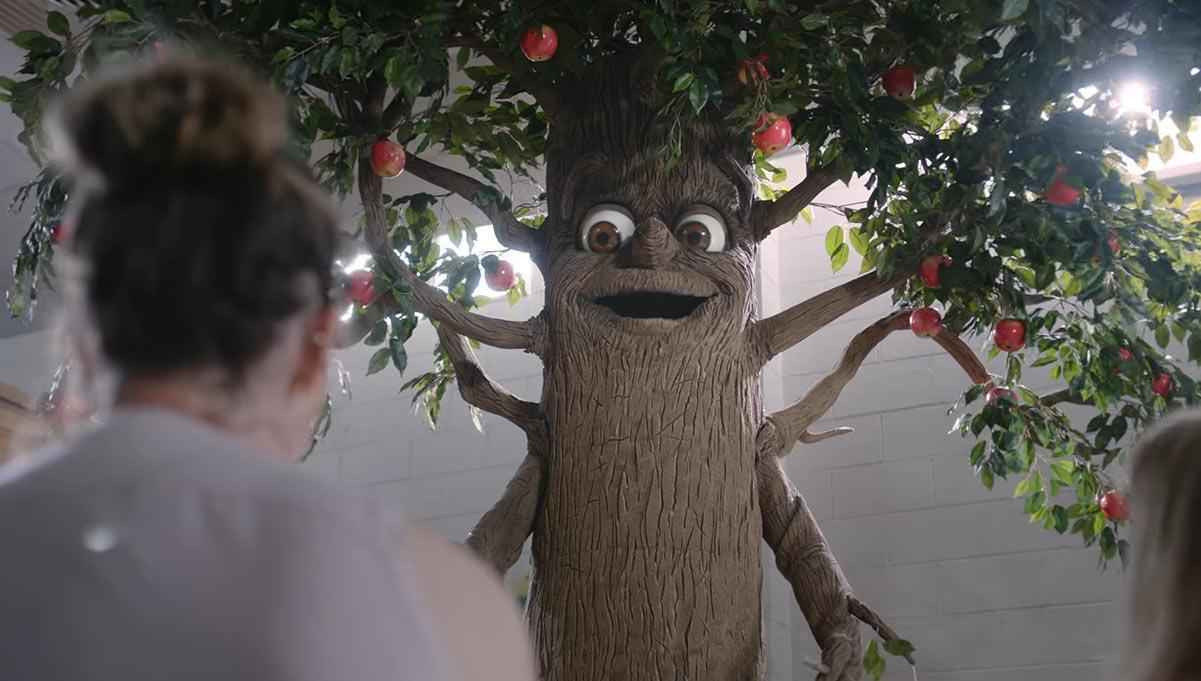apple: (517, 19, 558, 64), (752, 114, 792, 153), (370, 138, 406, 178), (484, 256, 519, 296), (344, 268, 379, 306), (917, 254, 953, 289), (908, 306, 945, 340), (882, 65, 916, 102), (994, 316, 1027, 351), (1044, 177, 1082, 204), (1099, 488, 1128, 521)
